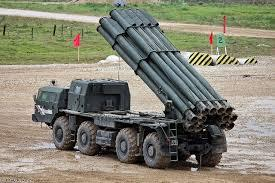MIL_SAM_TEL: (32, 2, 237, 168)
